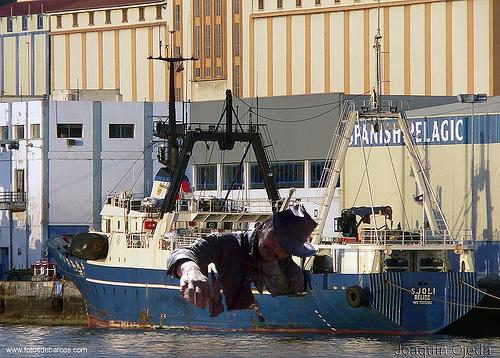tampered: (168, 199, 318, 322)
